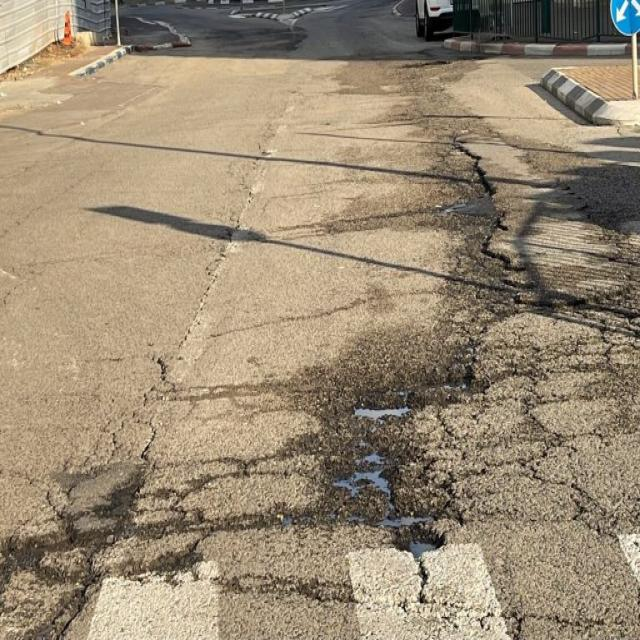medium_pothole: (349, 392, 420, 419), (392, 528, 444, 556)
minor_pothole: (332, 442, 394, 499), (427, 370, 480, 395), (378, 507, 432, 530)
